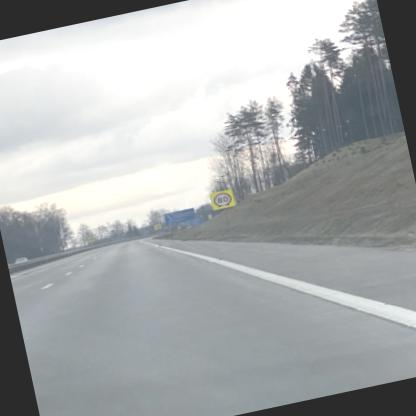speedlimit: (209, 190, 231, 206)
